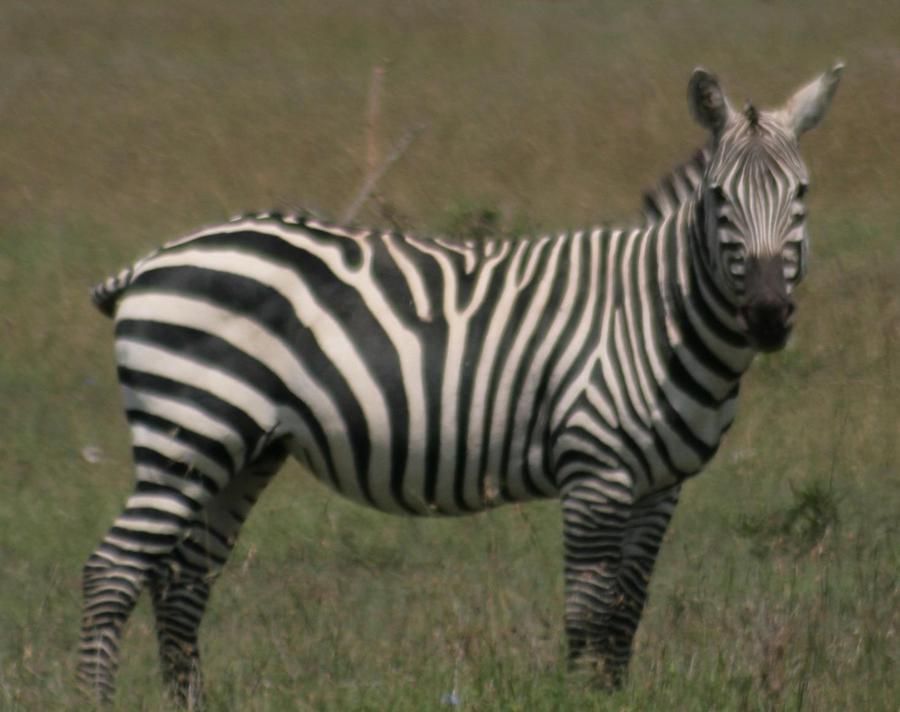zebra_plains: (91, 183, 716, 504)
